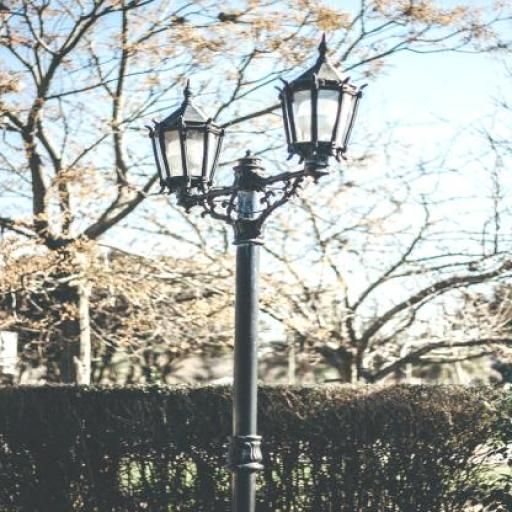street light: (143, 33, 368, 511)
